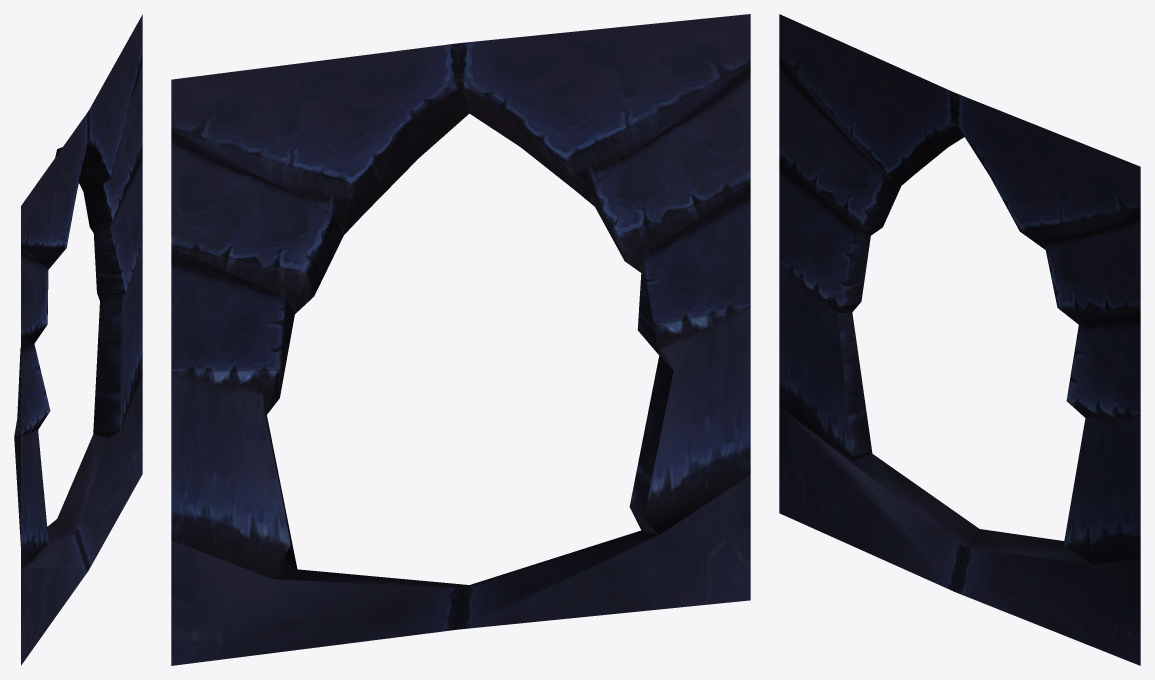
File: palace_wall_diagonal_07.fbx
3 views of the same model, side by side, from view 1: azimuth 30°, elevation 25°; view 2: azimuth 150°, elevation 25°; view 3: azimuth 270°, elevation 25° (orthographic). The views are drawn at different scales.
Parts seen in each view (by area): view 1: palace_tileset/palace_wall_straight01_mat; view 2: palace_tileset/palace_wall_straight01_mat; view 3: palace_tileset/palace_wall_straight01_mat.
Part boxes in pixels (x1,y1,x2,y2): palace_tileset/palace_wall_straight01_mat: (14,14,142,665); palace_tileset/palace_wall_straight01_mat: (171,14,750,665); palace_tileset/palace_wall_straight01_mat: (779,14,1140,665).
Size of the model in its own units: 3.61 by 5.5 by 3.61.
